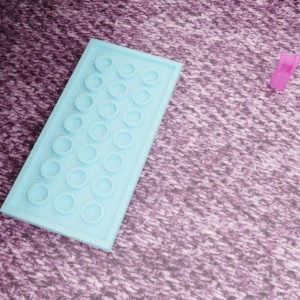lego: (0, 38, 182, 252), (269, 50, 299, 90)
